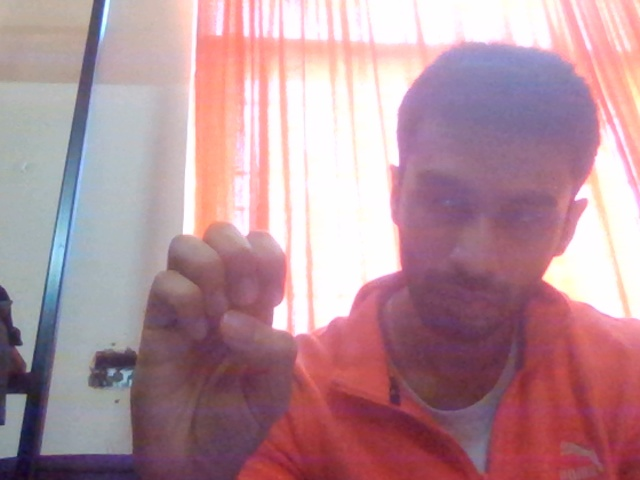E: (131, 205, 353, 480)
